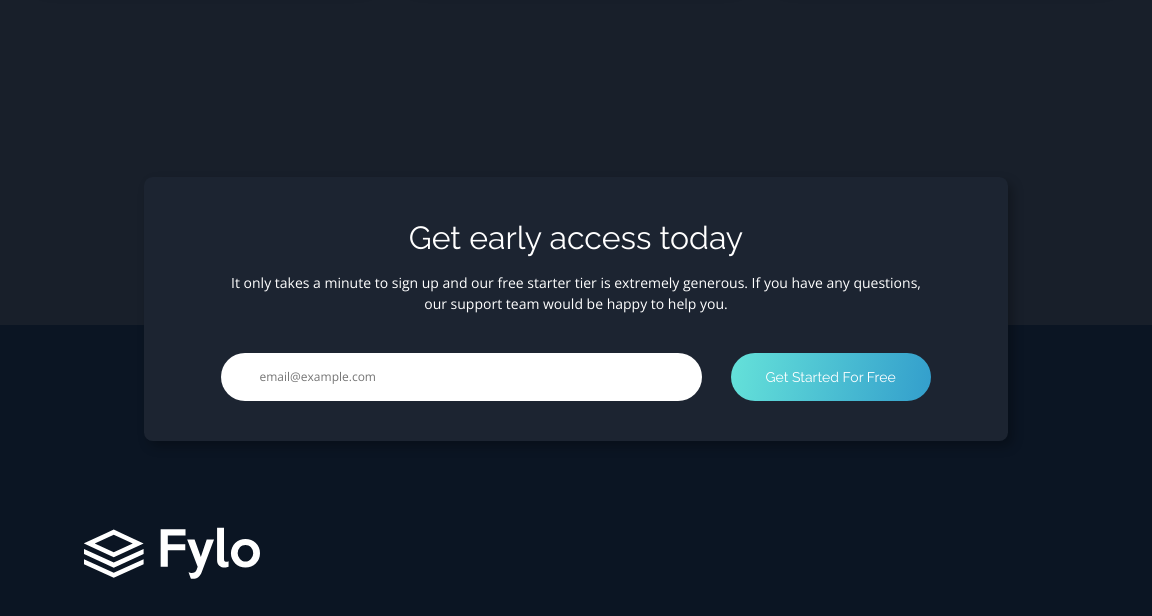
Test: Fylo landing page › shows a validation message for an invalid email
This screenshot has width=1152, height=616.
(page scrolled)
Type "invalid" into the field named "Email address" at (462, 376), box [221, 352, 702, 400]
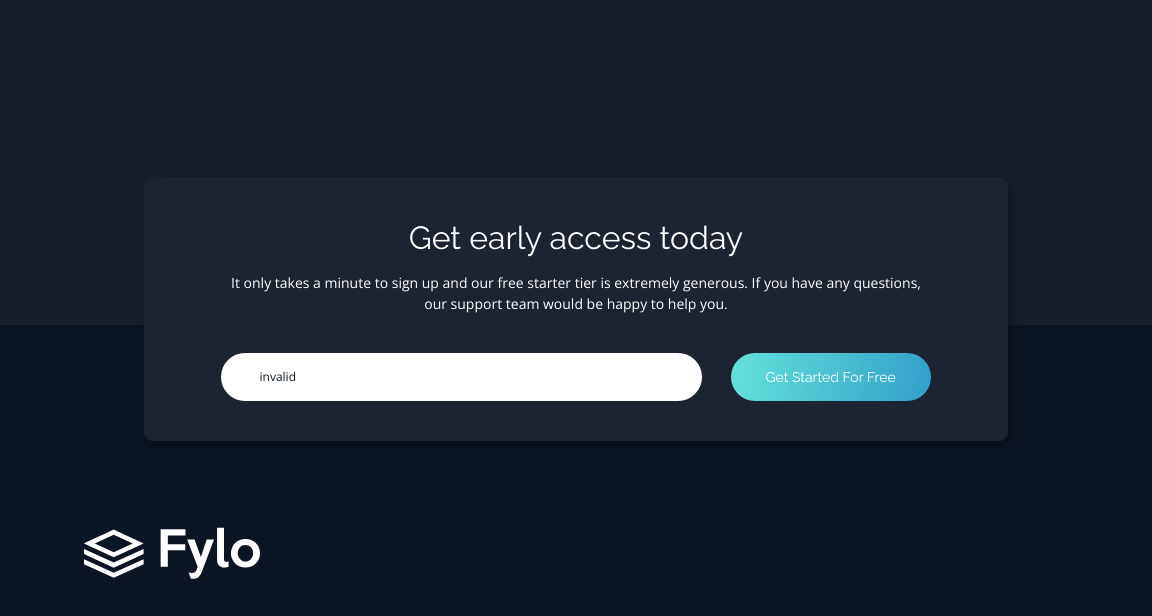
Click the button "Get Started For Free" at (831, 376), box [731, 352, 931, 400]
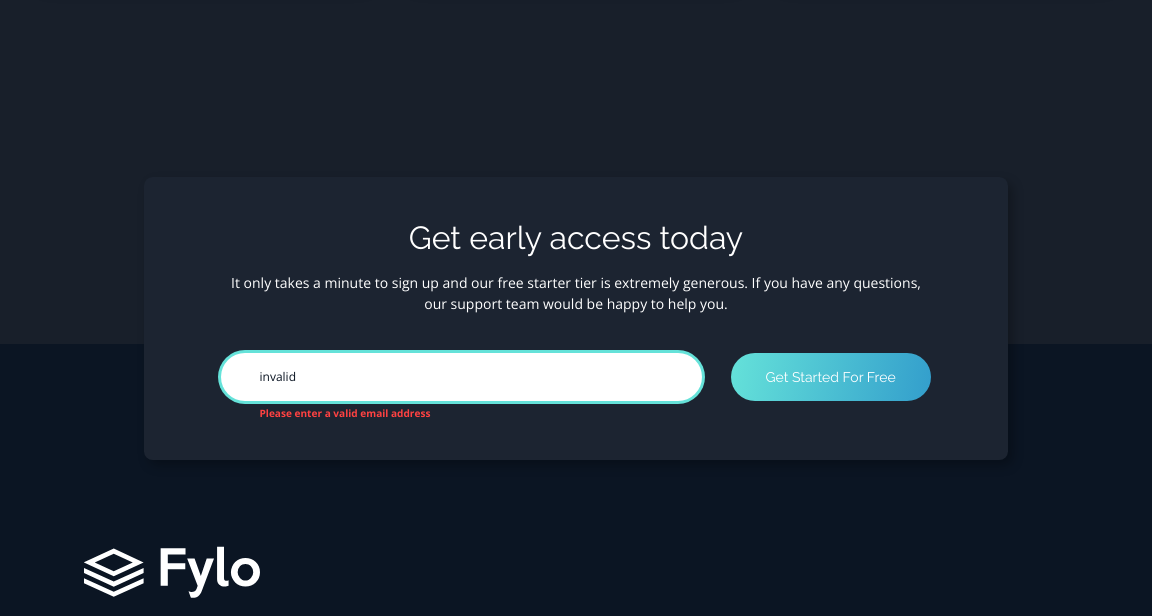
Check: the message reads "Please enter a valid email address", box [260, 406, 430, 420]
